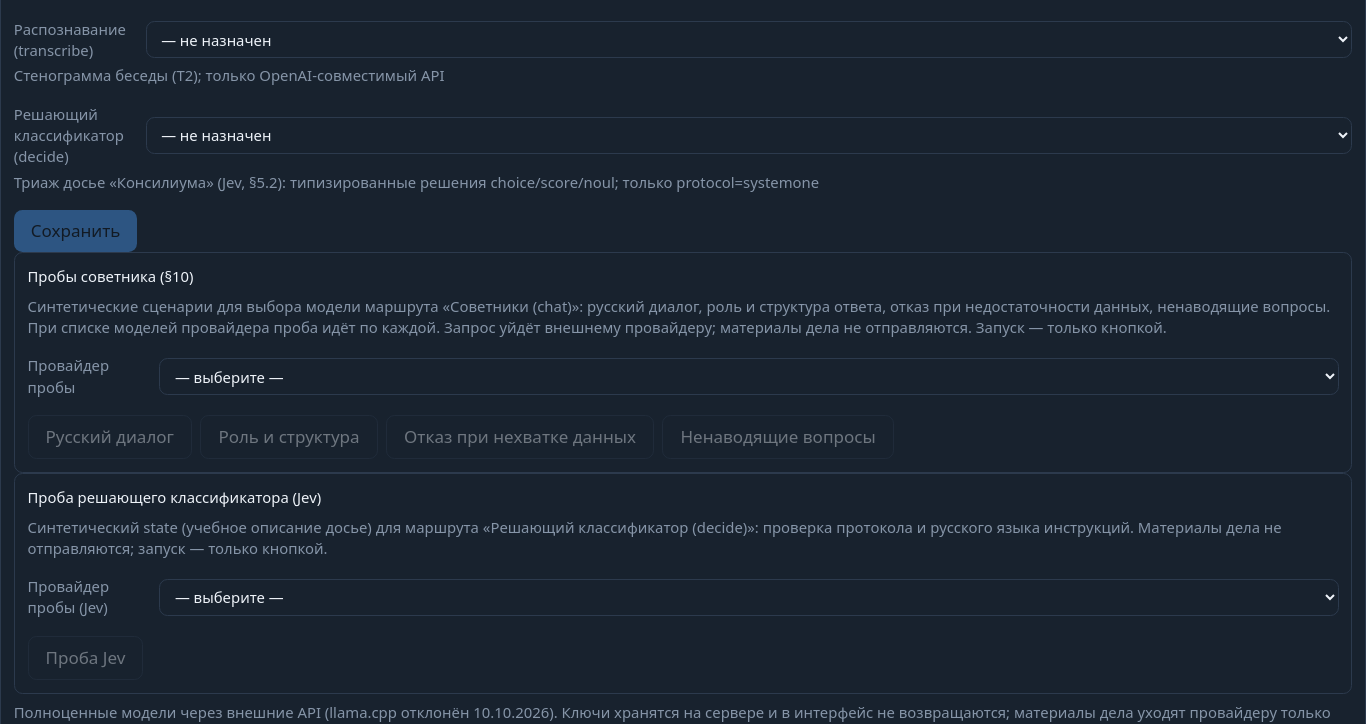
Test: панель «Модельный роутер ИИ» › обрезанный по бюджету токенов ответ помечается предупреждением
(page scrolled)
Select "Полная модель" in the dropdown labelled "Провайдер пробы" at (749, 376), box [159,358,1339,395]
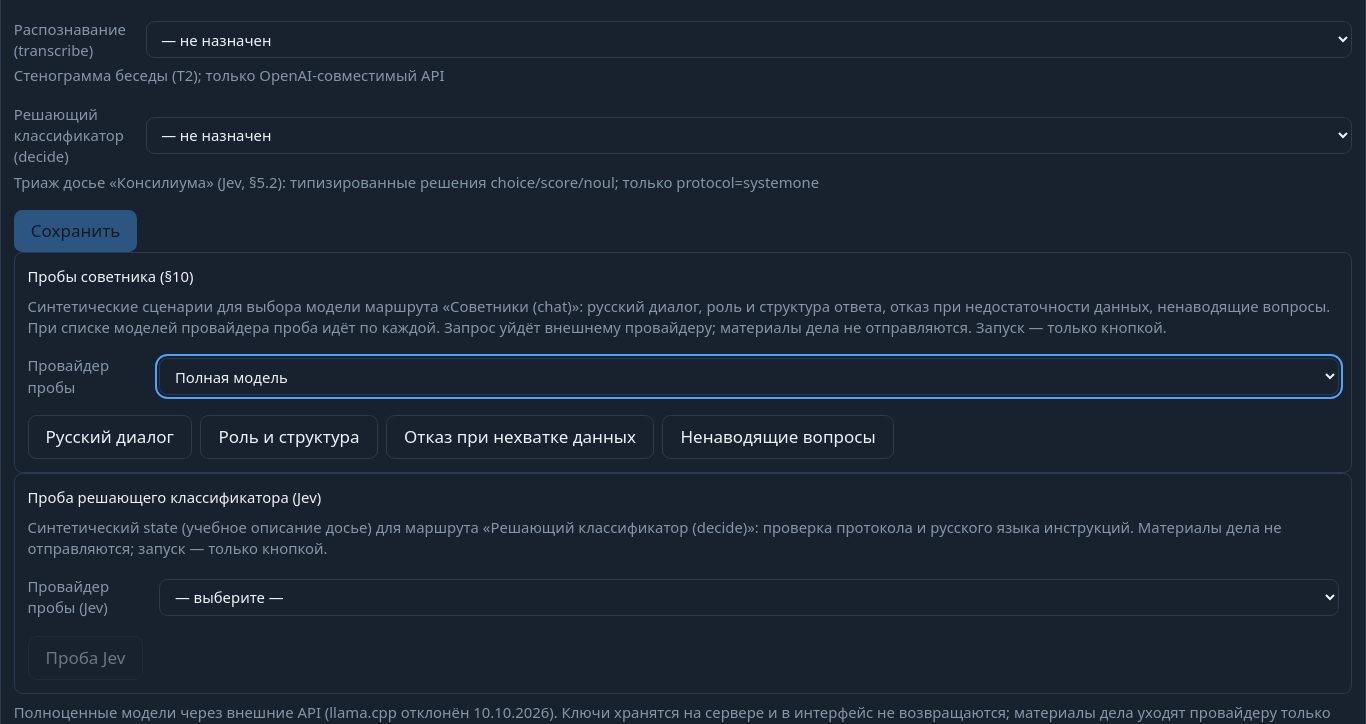
Click the button "Роль и структура".
click(289, 437)  # box [200,415,378,459]
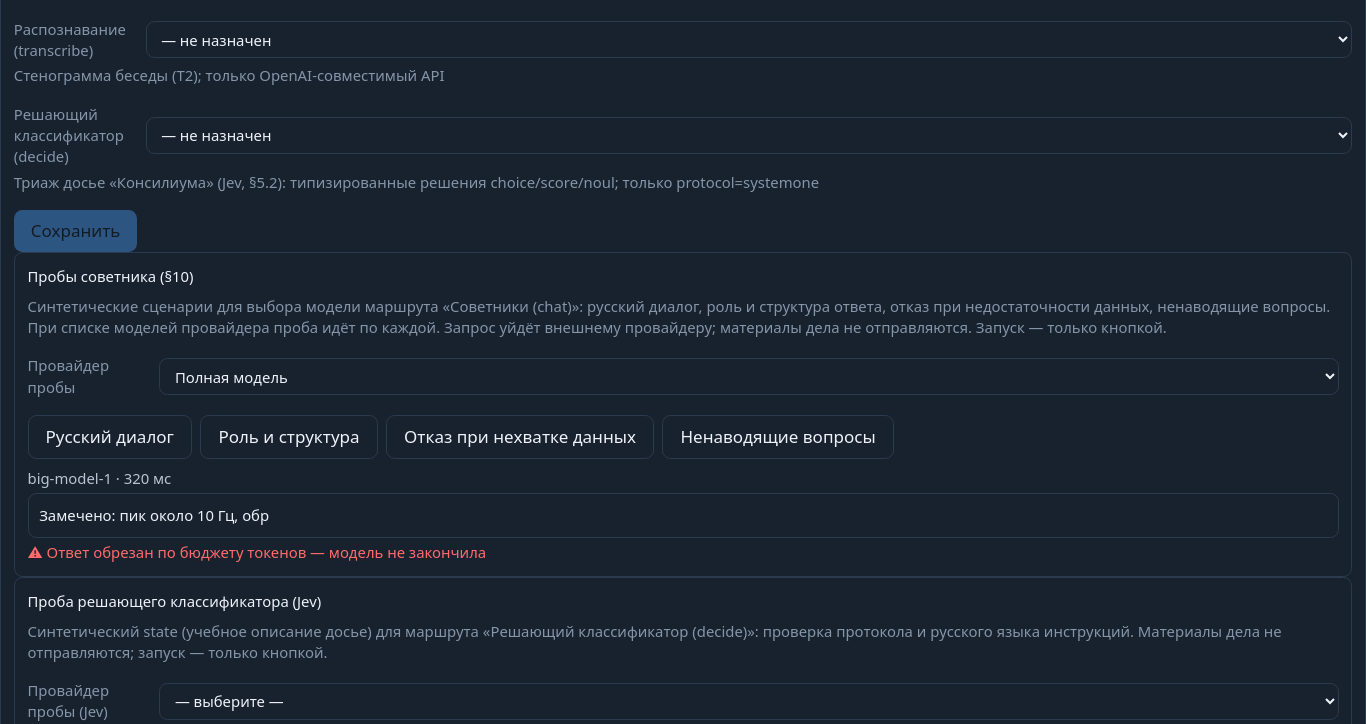
Now the text "⚠ Ответ обрезан по бюджету токенов — модель не закончила" is shown, box [28,542,486,562]
